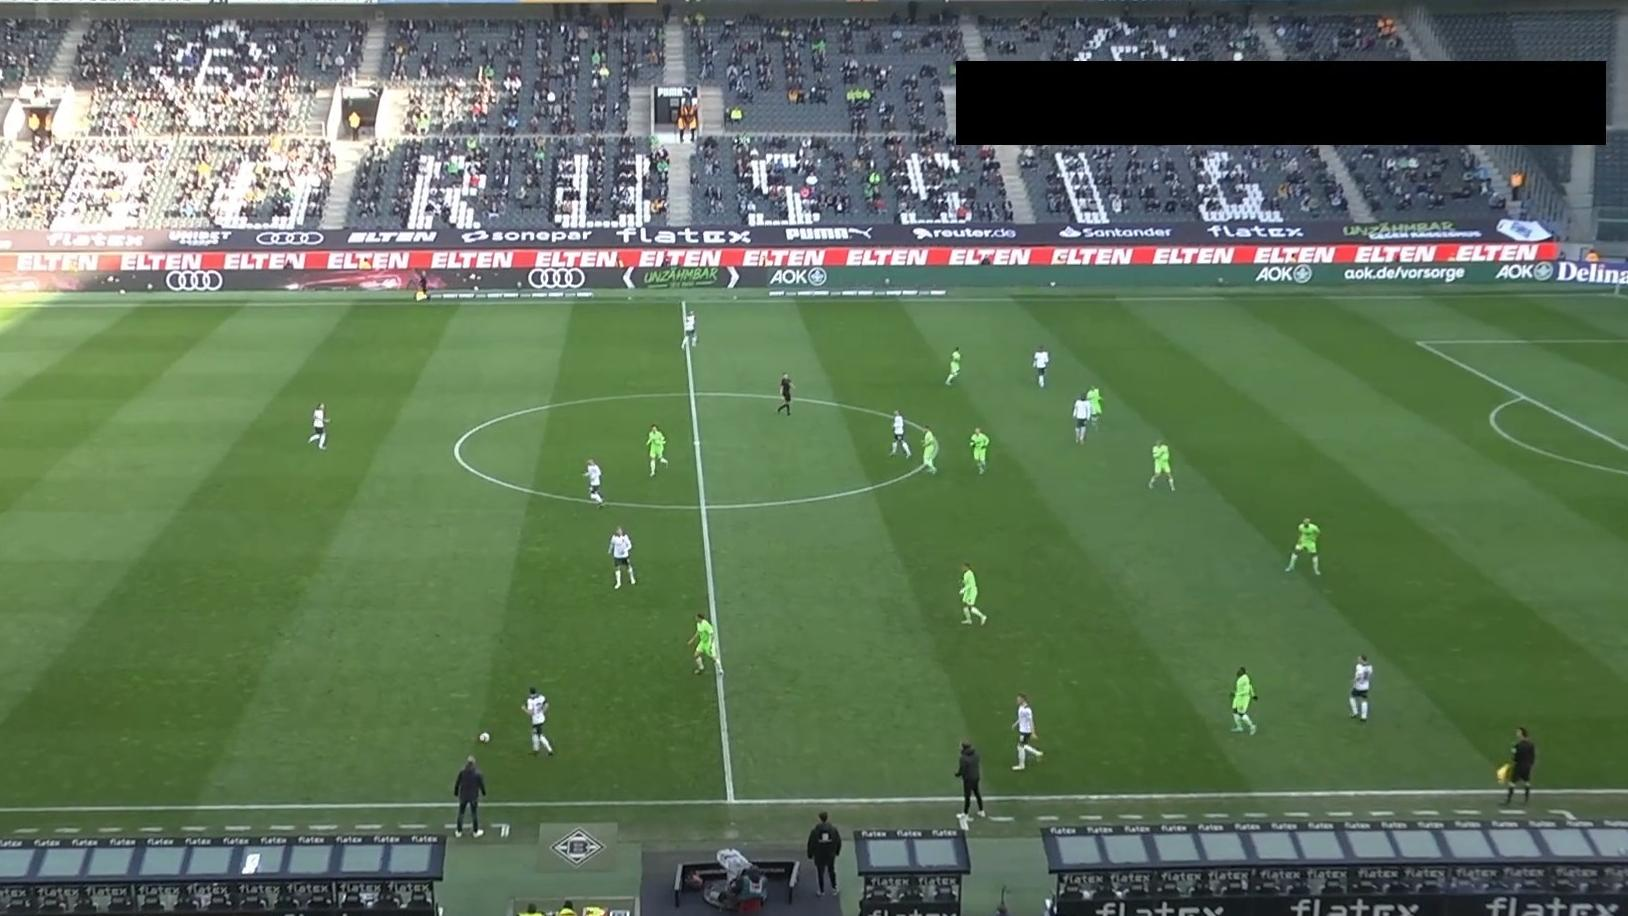ball: (480, 731, 491, 745)
